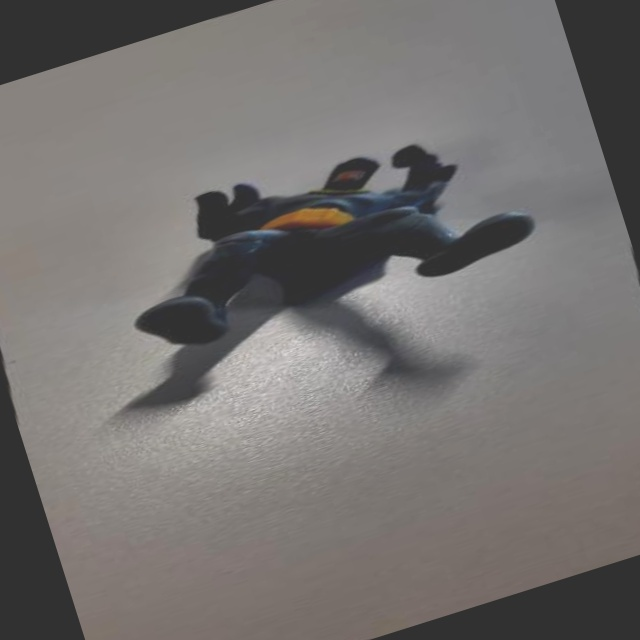Batman: (94, 93, 547, 372)
